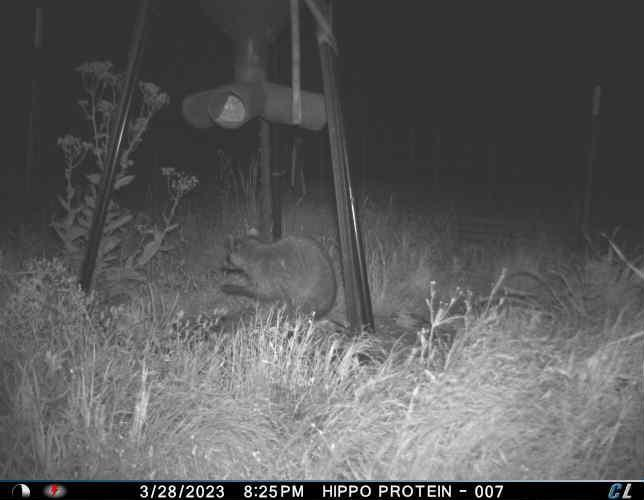Raccoon: (221, 227, 338, 322)
